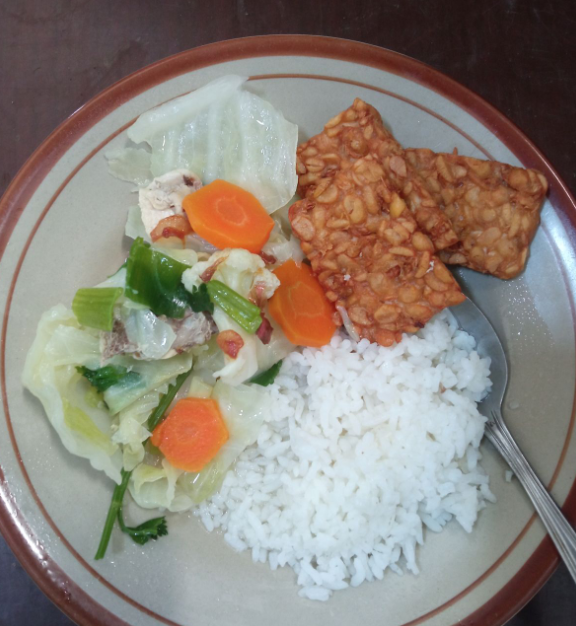buah_sayur_lainnya: (131, 255, 178, 313)
buah_sayur_vitA: (199, 192, 260, 249), (167, 409, 214, 460), (284, 278, 318, 335)
kacang_legume: (333, 185, 409, 306), (448, 165, 528, 263)
makanan_berpati: (293, 357, 461, 514)
